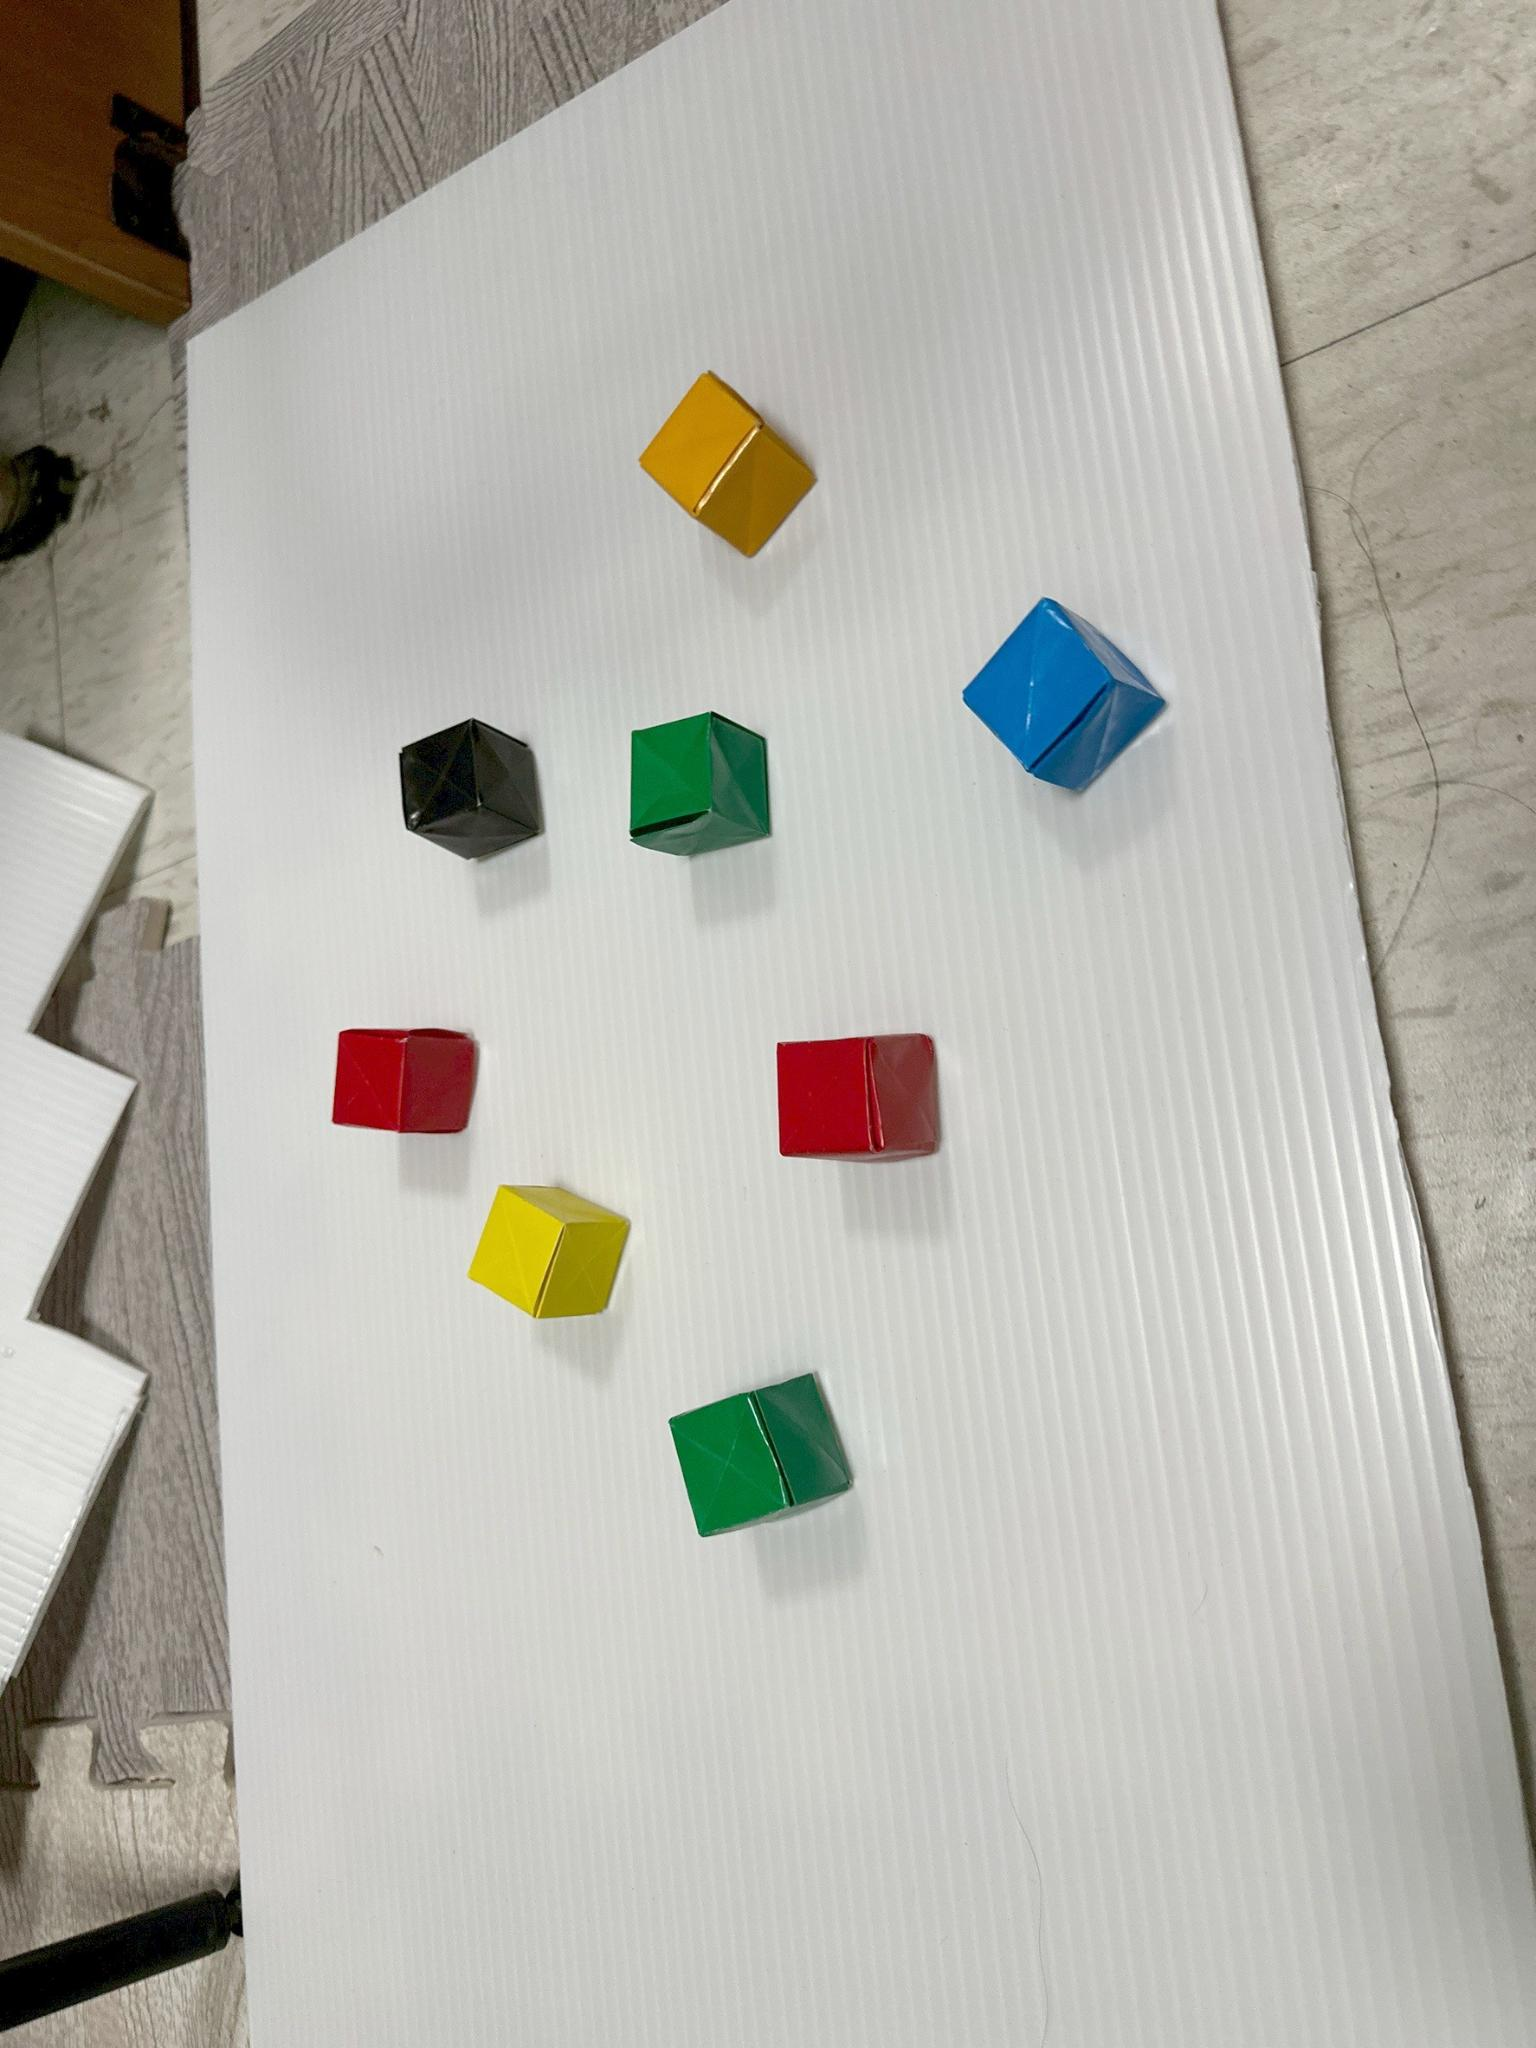cube: (963, 598, 1165, 789), (641, 371, 815, 556), (629, 713, 771, 856), (400, 718, 544, 860), (332, 1029, 476, 1134)
